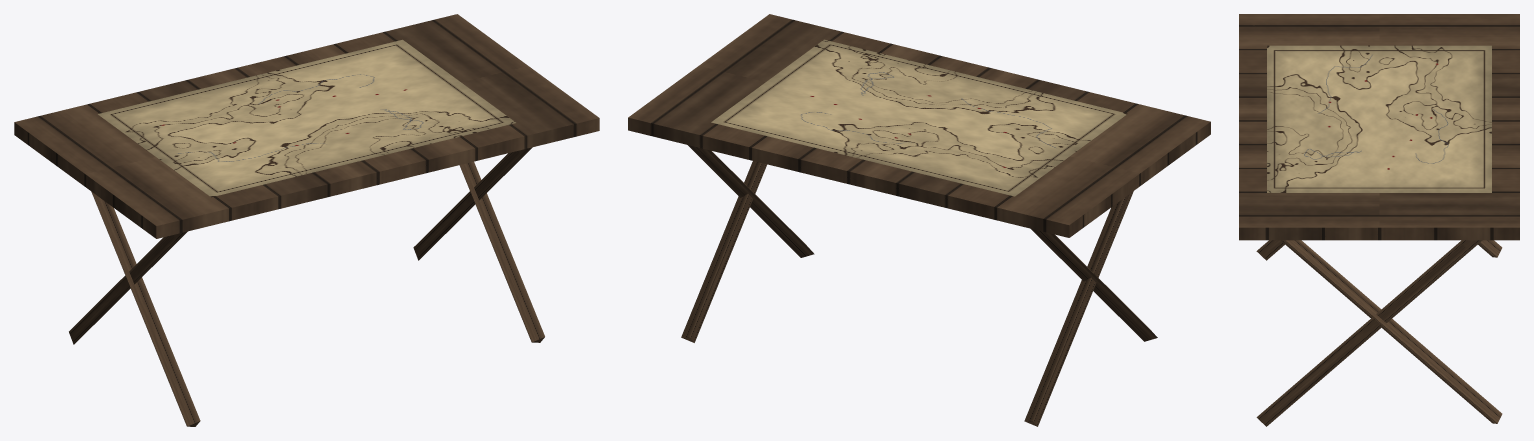
Rendered from Map_Table_1_LOD2.gltf.
3 views of the same model, side by side, from view 1: azimuth 30°, elevation 25°; view 2: azimuth 150°, elevation 25°; view 3: azimuth 270°, elevation 25° (orthographic).
Parts seen in each view (by area): view 1: Map_Table_1_LOD2; view 2: Map_Table_1_LOD2; view 3: Map_Table_1_LOD2.
Part boxes in pixels (x1,y1,x2,y2): Map_Table_1_LOD2: (14,14,599,426); Map_Table_1_LOD2: (628,14,1210,426); Map_Table_1_LOD2: (1239,14,1519,426).
Bounding box in the file's own units: 1.8 × 0.8748 × 1.
Materials: 2 (2 with a texture image).
